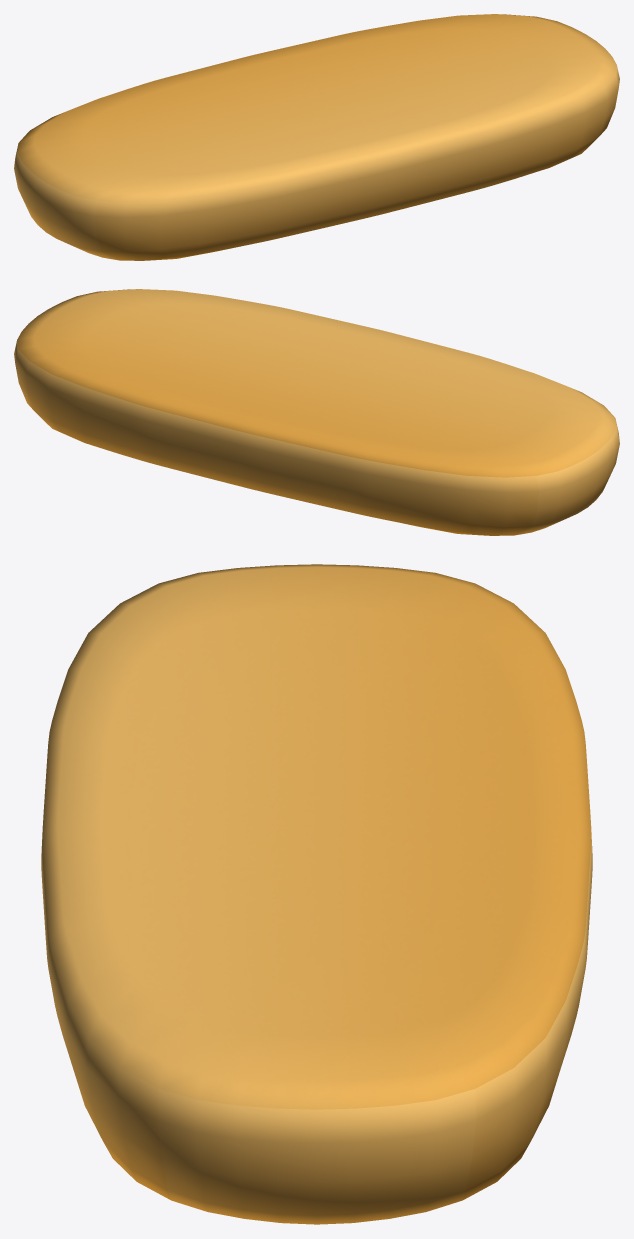
The model's file is Subway_Top.fbx.
3 views of the same model, one above another, from view 1: azimuth 30°, elevation 25°; view 2: azimuth 150°, elevation 25°; view 3: azimuth 270°, elevation 25° (orthographic). The views are drawn at different scales.
Parts seen in each view (by area): view 1: Cube.001; view 2: Cube.001; view 3: Cube.001.
Boxes of the visible parts, left/top/right/bottom form: Cube.001: left=14, top=14, right=619, bottom=260; Cube.001: left=14, top=289, right=619, bottom=535; Cube.001: left=41, top=564, right=592, bottom=1224.
Bounding box in the file's own units: 554 × 78.12 × 234.
